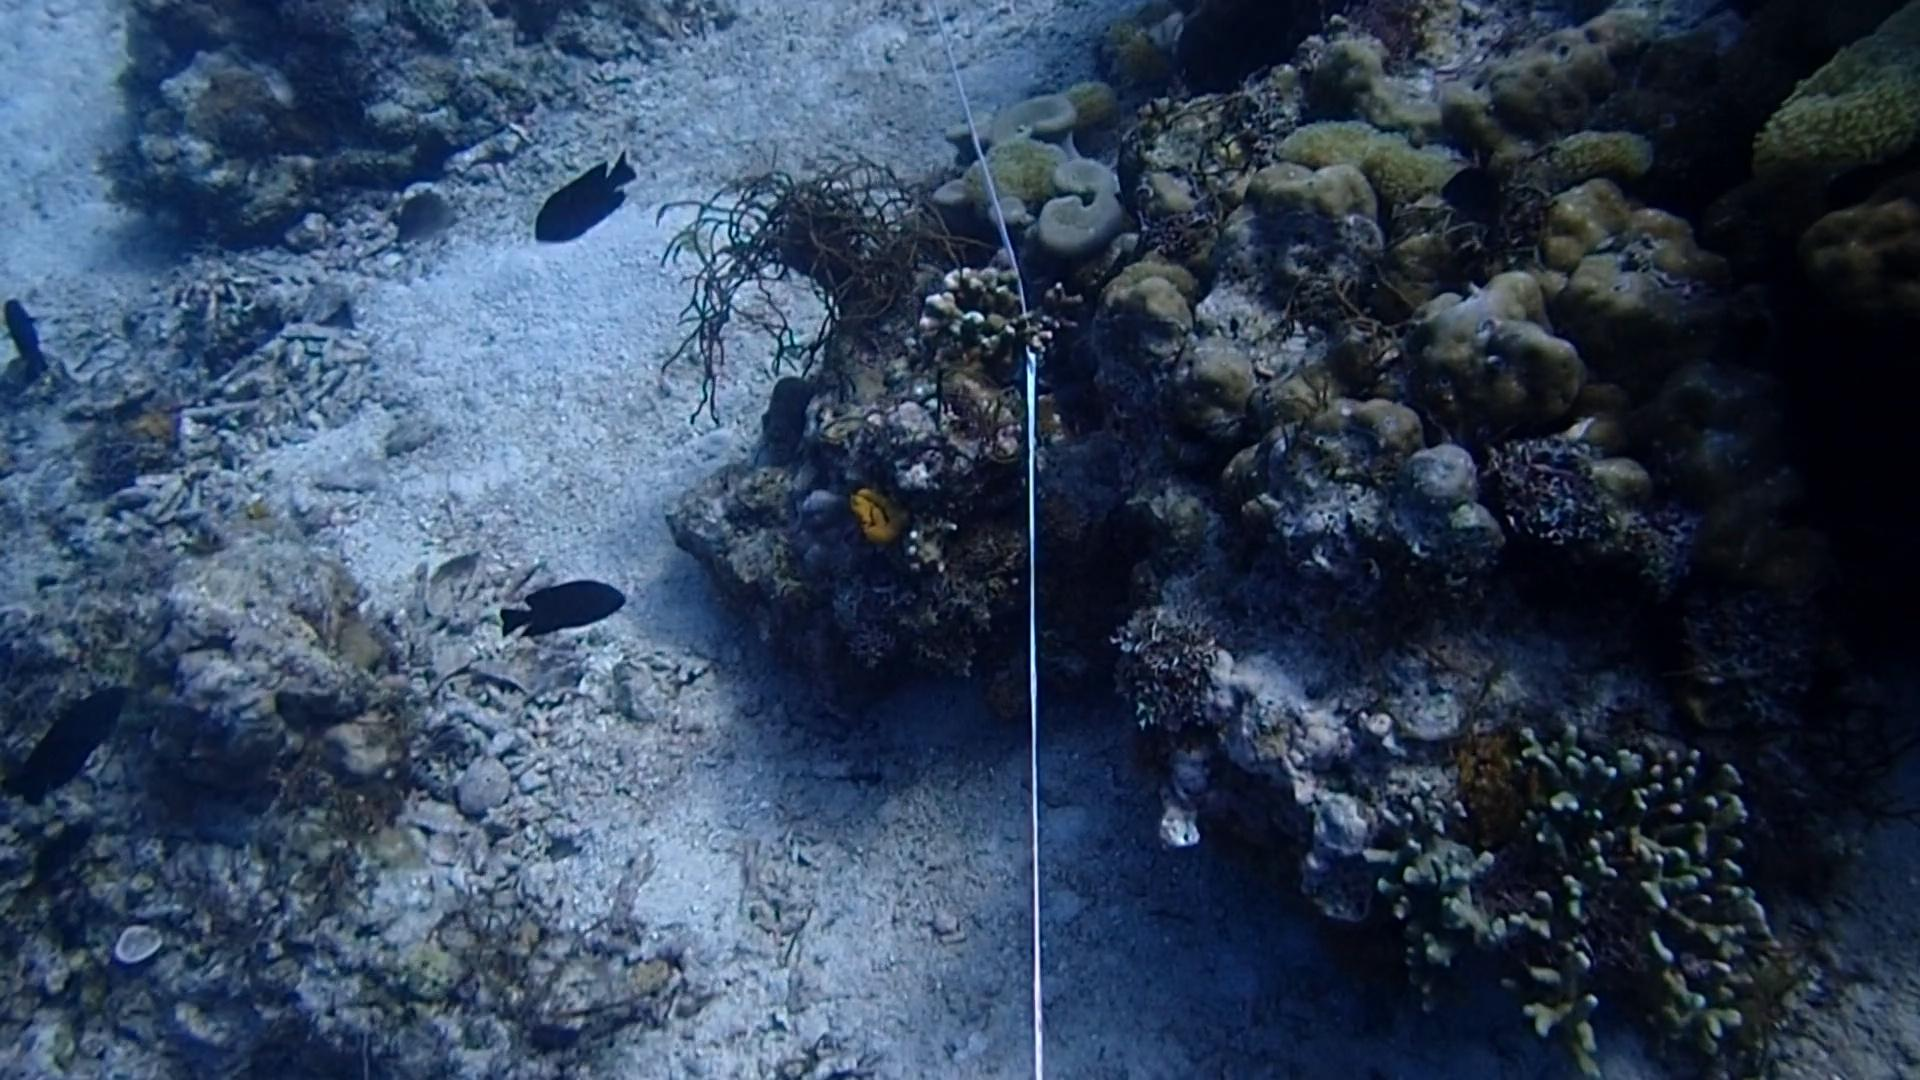Dark Fish: (472, 567, 646, 662), (525, 136, 655, 261), (16, 671, 140, 800), (7, 814, 103, 915), (11, 290, 57, 382)
Light Fish: (388, 181, 471, 253)
